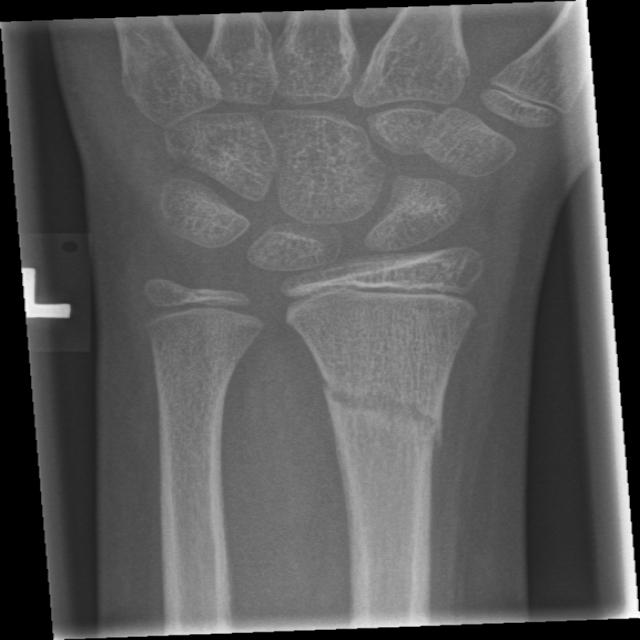radius fracture: (303, 333, 487, 508)
